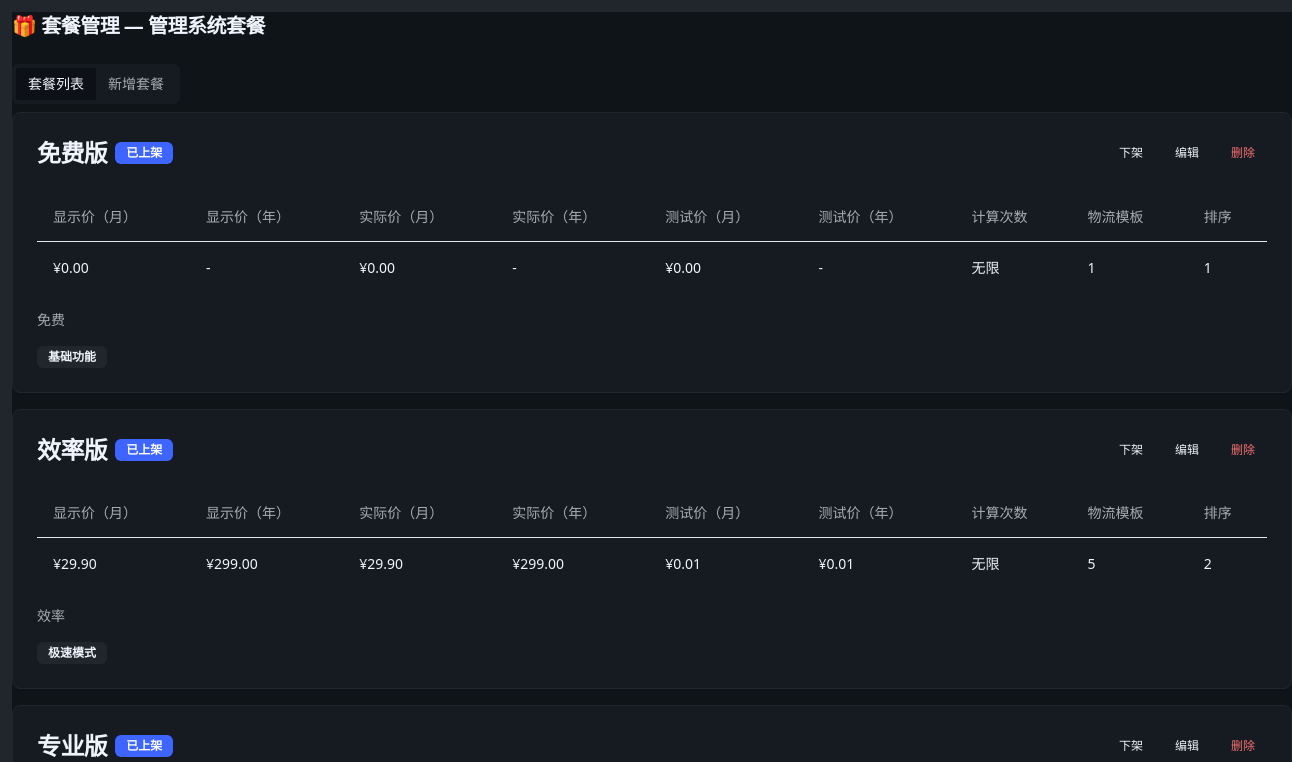
Scenario: PlanManagementPage › shows edit form when edit button is clicked
The width and height of the screenshot is (1292, 762).
Check: the heading "免费版" is shown, box x1=37 y1=141 x2=107 y2=165
Click the button "编辑" in the row of "免费版" at x=1187, y=153, box x1=1163 y1=137 x2=1211 y2=169
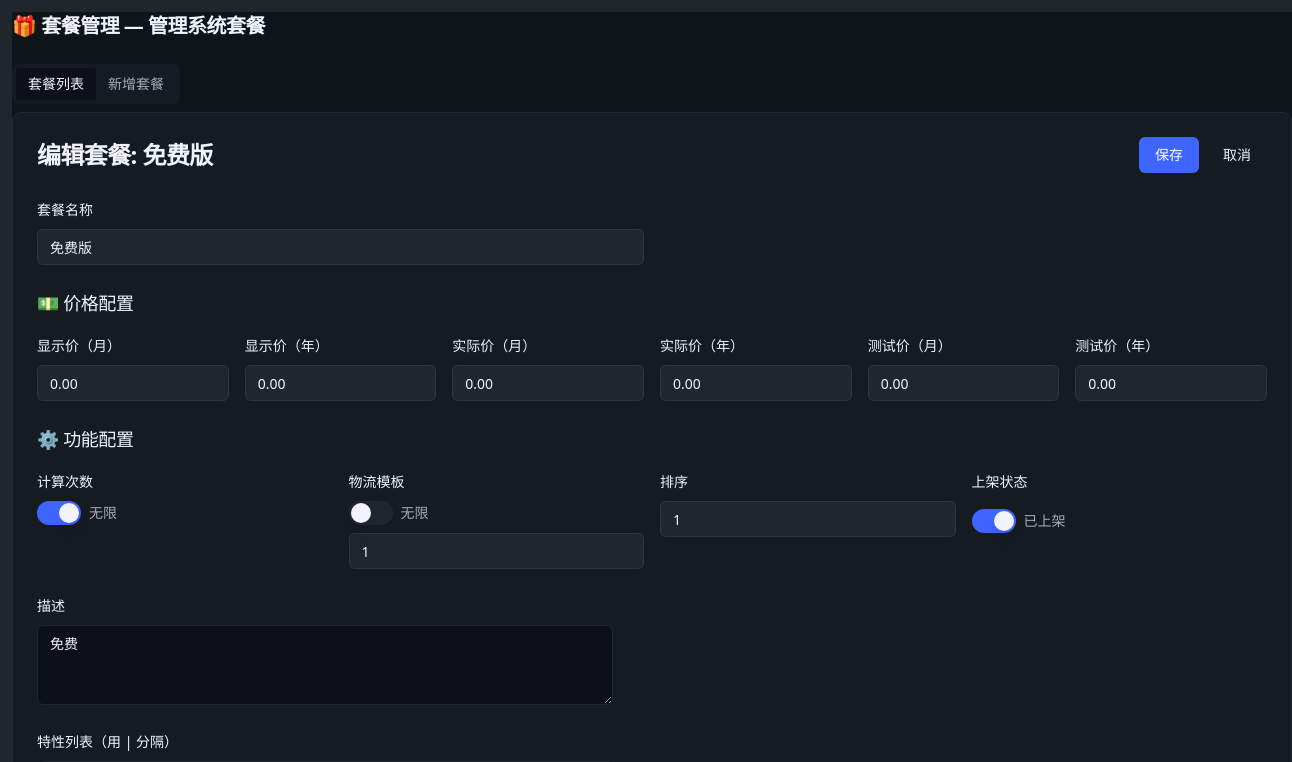
Check: the heading "编辑套餐: 免费版" is shown, box x1=37 y1=143 x2=213 y2=167
